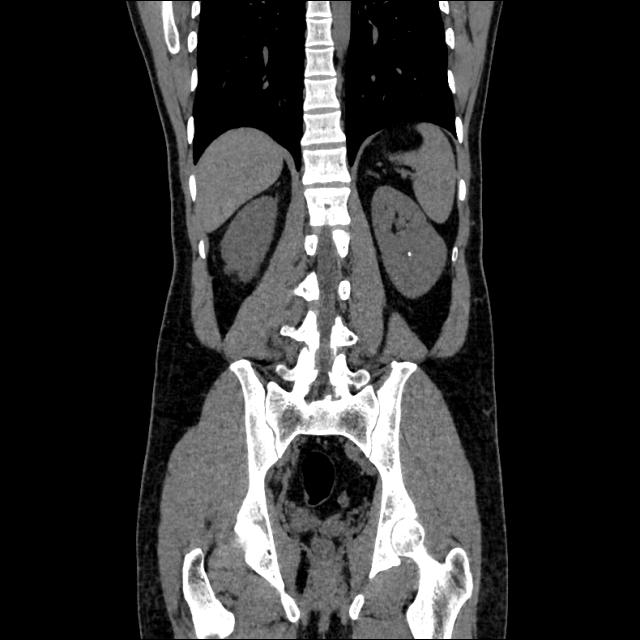kidneystone: (408, 252, 412, 258)
